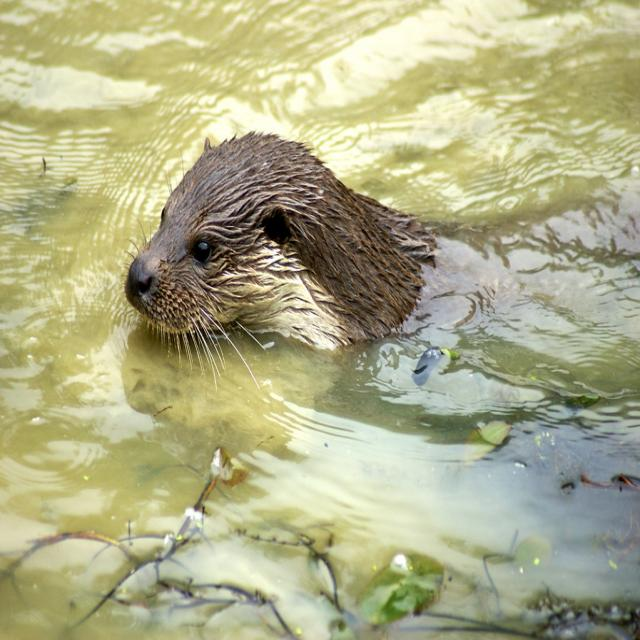otter: (125, 128, 431, 355)
